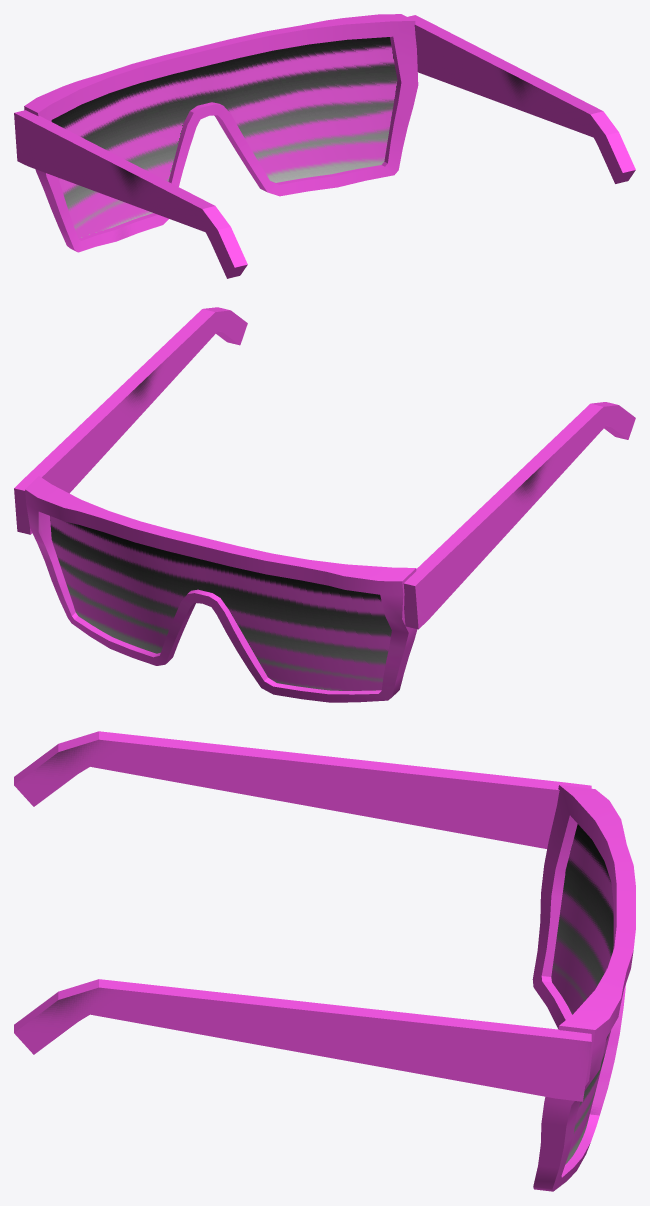
The model's file is pink_sunglasses.glb.
3 renders of one model, top to bottom at view 1: azimuth 30°, elevation 25°; view 2: azimuth 150°, elevation 25°; view 3: azimuth 270°, elevation 25°, orthographic. The views are drawn at different scales.
Visible parts, largest first — view 1: cosmetic_sunglasses; view 2: cosmetic_sunglasses; view 3: cosmetic_sunglasses.
Part boxes in pixels (x1,y1,x2,y2): cosmetic_sunglasses: [14, 14, 635, 278]; cosmetic_sunglasses: [14, 307, 635, 702]; cosmetic_sunglasses: [14, 731, 635, 1191].
Bounding box in the file's own units: 0.4153 × 0.1825 × 0.426.
1 material, 1 textured.
